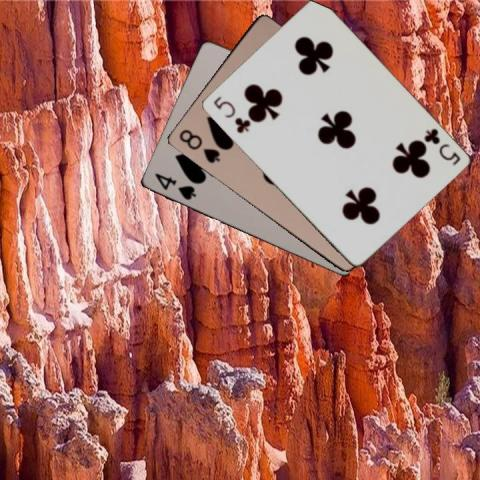4s: (152, 170, 198, 202)
5c: (210, 92, 251, 134), (421, 125, 461, 167)
8s: (176, 126, 222, 165)
